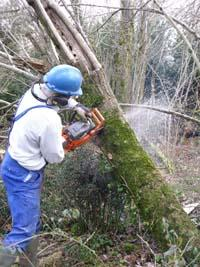person: (1, 63, 90, 267)
